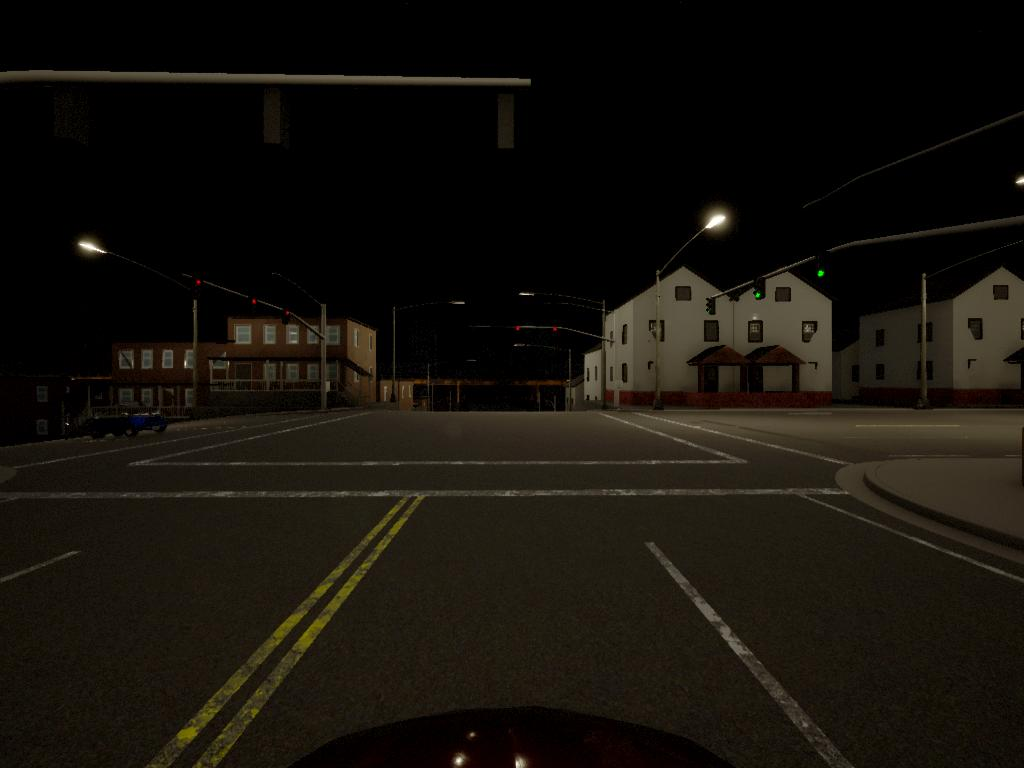traffic_light: (754, 279, 768, 301), (819, 267, 830, 283), (284, 308, 292, 324), (251, 297, 259, 312), (196, 278, 204, 292), (515, 325, 522, 334), (553, 326, 559, 336)
